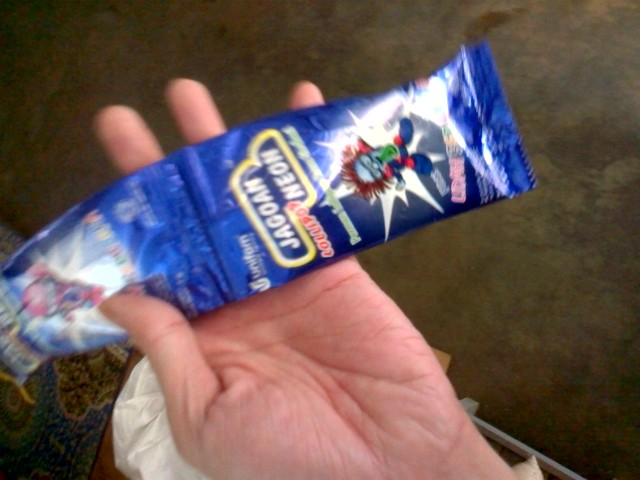jagoan neon: (169, 38, 540, 306)
